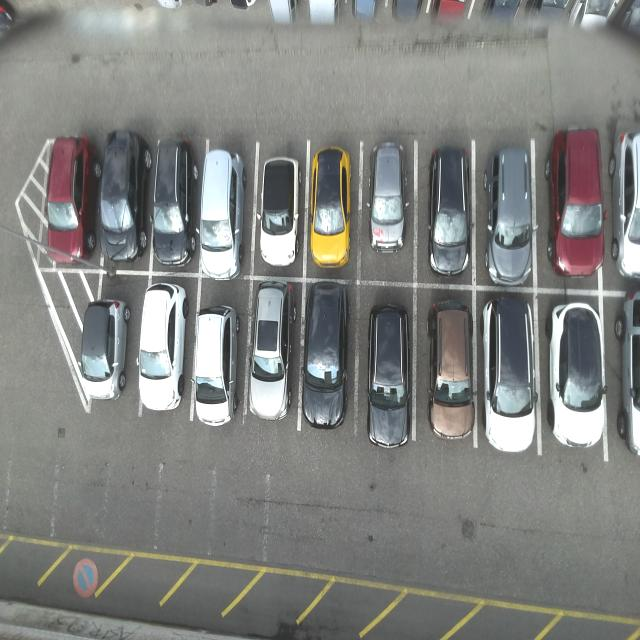car: (547, 127, 607, 286), (547, 303, 606, 455), (485, 297, 540, 454), (303, 279, 352, 439), (99, 123, 152, 270), (200, 146, 254, 286), (428, 298, 478, 448), (486, 146, 536, 292), (139, 282, 191, 419), (366, 302, 413, 453), (248, 279, 296, 424), (47, 139, 99, 267), (192, 303, 243, 433), (152, 140, 203, 269), (428, 145, 475, 282), (307, 143, 357, 271), (81, 290, 133, 402), (260, 155, 306, 268), (369, 139, 410, 262)
